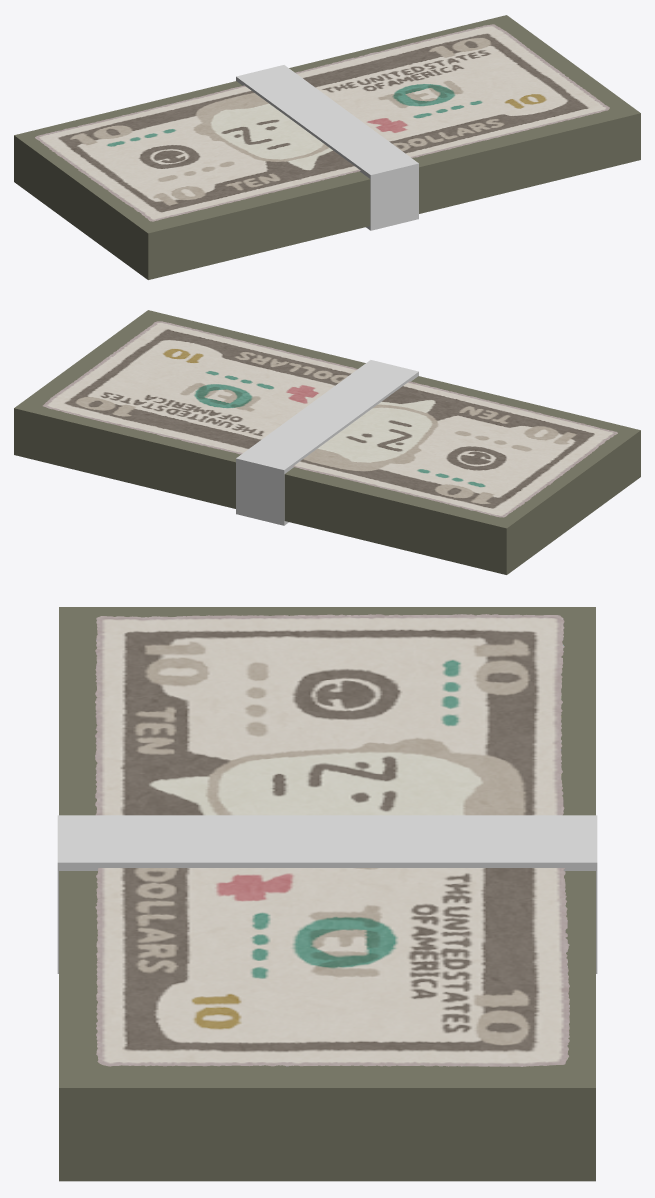
File: bills.fbx
3 renders of one model, top to bottom at view 1: azimuth 30°, elevation 25°; view 2: azimuth 150°, elevation 25°; view 3: azimuth 270°, elevation 25°, orthographic. The views are drawn at different scales.
Parts seen in each view (by area): view 1: 平面, 立方体.001, 立方体; view 2: 平面, 立方体.001, 立方体; view 3: 平面, 立方体.001, 立方体.
Part boxes in pixels (<box>): 平面: <box>35,24,609,221</box>; 立方体.001: <box>14,15,640,279</box>; 立方体: <box>236,65,418,230</box>; 平面: <box>42,321,617,517</box>; 立方体.001: <box>14,310,640,574</box>; 立方体: <box>236,360,418,525</box>; 平面: <box>95,614,569,1066</box>; 立方体.001: <box>59,607,595,1181</box>; 立方体: <box>57,815,597,973</box>.
Size of the model in its own units: 429 by 46.28 by 203.
Materials: 2 (1 with a texture image).
